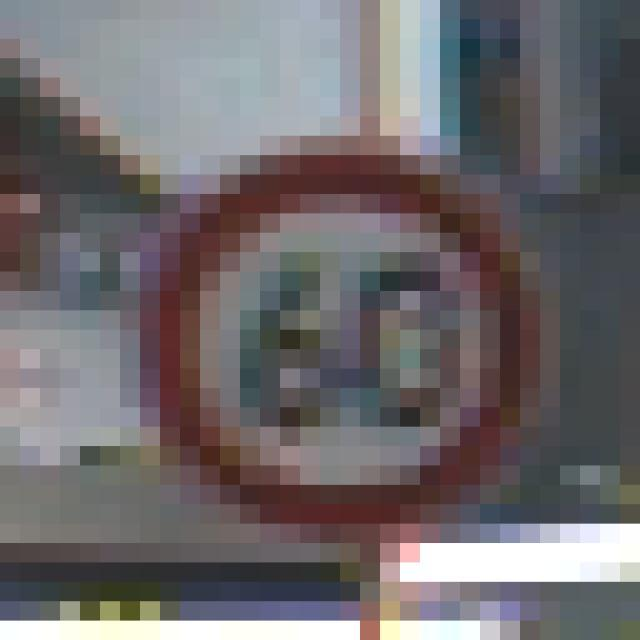Ograniczenie predkosci do 60: (157, 146, 528, 519)
